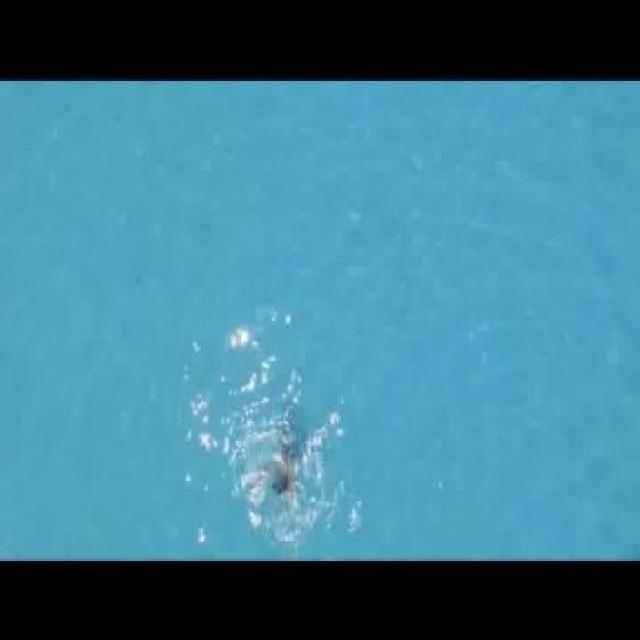swimming: (237, 403, 320, 509)
